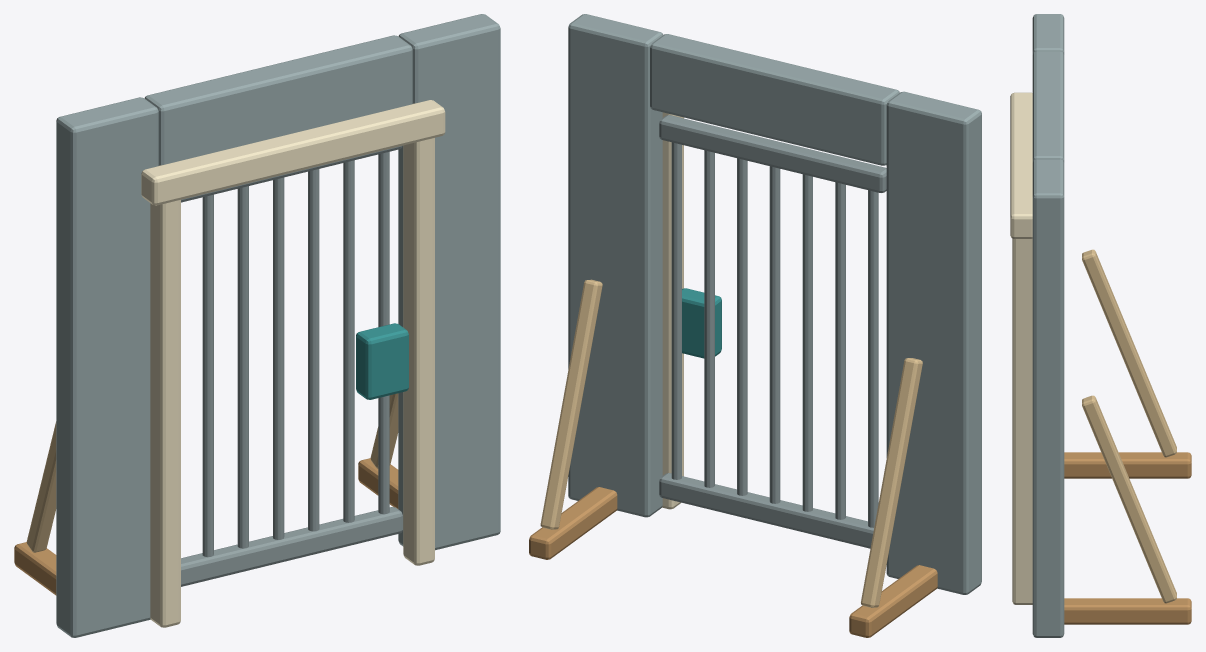
Rendered from S003_barred_cell_gate.glb.
3 renders of one model, left to right at view 1: azimuth 30°, elevation 25°; view 2: azimuth 150°, elevation 25°; view 3: azimuth 270°, elevation 25°, orthographic. The views are drawn at different scales.
Parts seen in each view (by area): view 1: wall_side, wall_side.001, wall_lintel, door_jamb.001, door_jamb, door_lintel, gate_rail, vertical_bar.004, vertical_bar.005, vertical_bar.002, vertical_bar.003, vertical_bar.001 (+7 smaller); view 2: wall_side, wall_side.001, wall_lintel, gate_rail.001, gate_rail, rear_triangular_brace.001, rear_triangular_brace, door_jamb.001, vertical_bar.003, vertical_bar.001, vertical_bar.002, vertical_bar.004 (+6 smaller); view 3: wall_side.001, door_jamb.001, rear_triangular_brace.001, rear_triangular_brace, wall_lintel, rear_plywood_foot.001, door_lintel, rear_plywood_foot, wall_side.
Part boxes in pixels (left/top/right/bottom): wall_side: left=56, top=97, right=158, bottom=637; wall_side.001: left=398, top=14, right=500, bottom=550; wall_lintel: left=144, top=35, right=412, bottom=165; door_jamb.001: left=403, top=138, right=434, bottom=565; door_jamb: left=150, top=200, right=180, bottom=627; door_lintel: left=141, top=100, right=445, bottom=205; gate_rail: left=181, top=507, right=402, bottom=586; vertical_bar.004: left=308, top=169, right=319, bottom=531; vertical_bar.005: left=343, top=160, right=354, bottom=522; vertical_bar.002: left=237, top=186, right=248, bottom=548; vertical_bar.003: left=273, top=177, right=284, bottom=539; vertical_bar.001: left=202, top=194, right=213, bottom=557; wall_side: left=886, top=91, right=981, bottom=594; wall_side.001: left=568, top=14, right=663, bottom=517; wall_lintel: left=650, top=34, right=899, bottom=165; gate_rail.001: left=659, top=115, right=886, bottom=192; gate_rail: left=659, top=473, right=873, bottom=548; rear_triangular_brace.001: left=540, top=279, right=602, bottom=529; rear_triangular_brace: left=861, top=358, right=922, bottom=607; door_jamb.001: left=662, top=112, right=683, bottom=509; vertical_bar.003: left=769, top=166, right=780, bottom=503; vertical_bar.001: left=835, top=182, right=845, bottom=519; vertical_bar.002: left=802, top=174, right=812, bottom=511; vertical_bar.004: left=737, top=158, right=747, bottom=495; wall_side.001: left=1032, top=159, right=1064, bottom=637; door_jamb.001: left=1012, top=238, right=1032, bottom=604; rear_triangular_brace.001: left=1082, top=395, right=1176, bottom=603; rear_triangular_brace: left=1082, top=249, right=1176, bottom=457; wall_lintel: left=1032, top=51, right=1064, bottom=162; rear_plywood_foot.001: left=1064, top=598, right=1191, bottom=624; door_lintel: left=1010, top=92, right=1032, bottom=238; rear_plywood_foot: left=1064, top=452, right=1191, bottom=478; wall_side: left=1032, top=14, right=1064, bottom=54.
Size of the model in its own units: 2.2 by 2.5 by 0.925.
